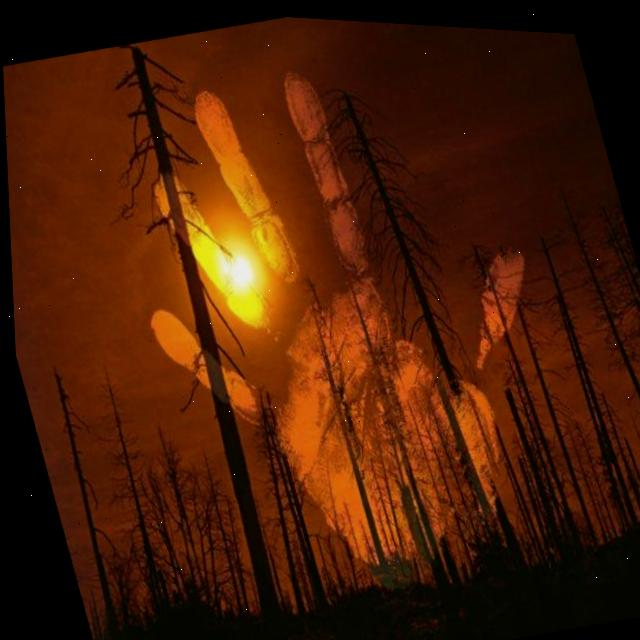fire: (197, 223, 272, 304)
smoke: (245, 281, 514, 569), (273, 62, 379, 284), (189, 87, 267, 220), (147, 295, 208, 391), (470, 239, 530, 330)
